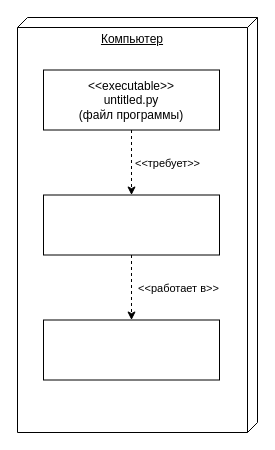
Image size: 275x450. Some labels were removed from this diagram. Each missing label, with the centre of its shape:
"<<library>> Интерпретатор Python" goes at (x=131, y=224).
"<<system>> Windows 10" goes at (x=131, y=349).
